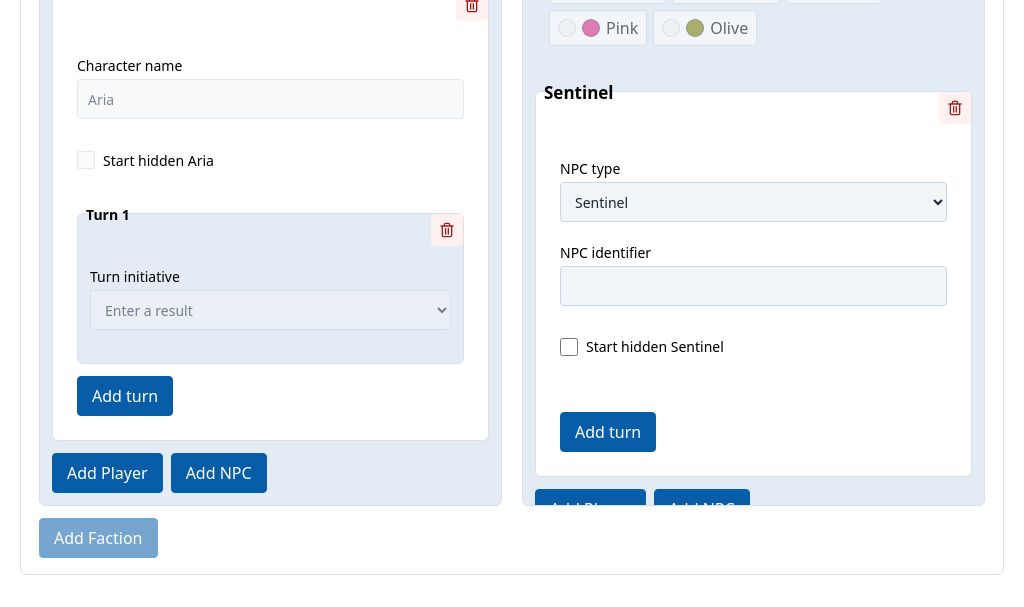
Test: new challenge setup › normalizes a blank identifier only when the existing NPC is editable
(page scrolled)
Click the button "Add NPC" below "Turn initiative": [219, 473] box [171,453,267,493]
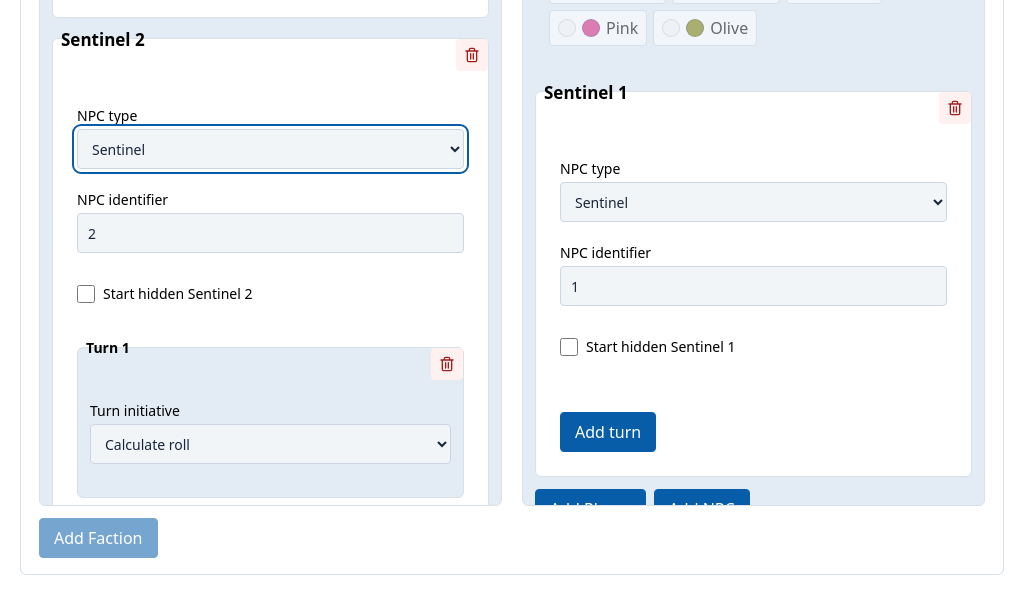
Now the element "Sentinel 1" is shown, box [548,147,959,464]
Now the element "Sentinel 2" is shown, box [65,94,476,505]
